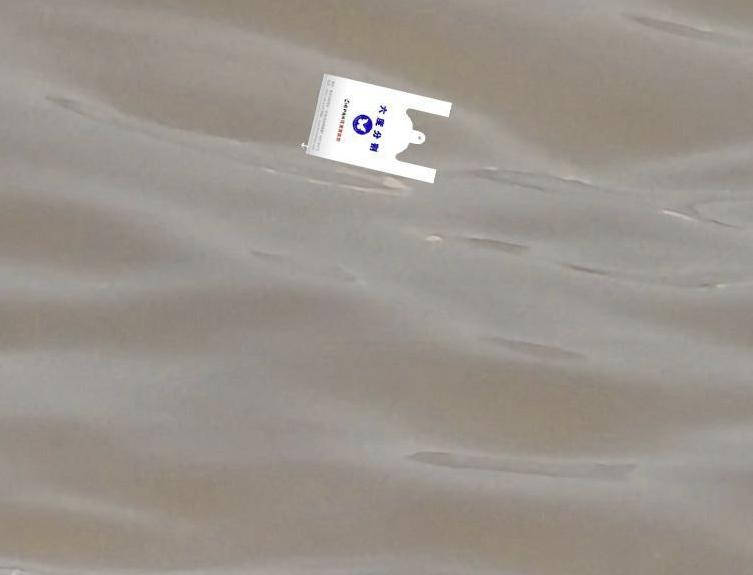Trash: (303, 66, 457, 185)
